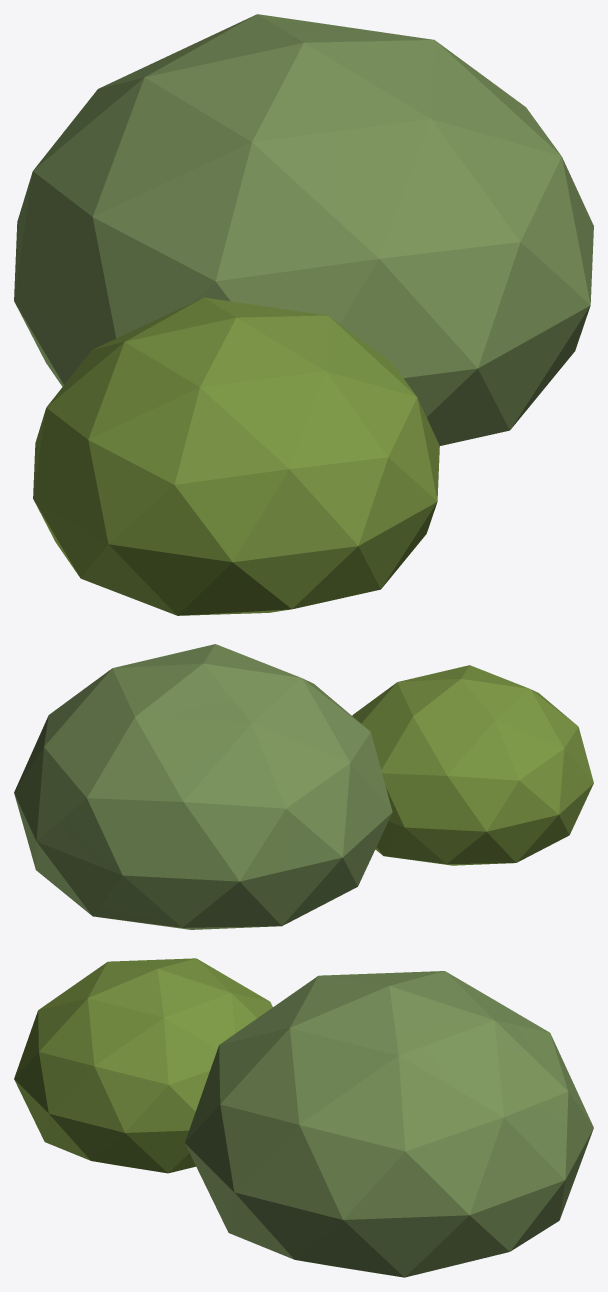
Rendered from bush_4.FBX.
The picture shows the model from 3 angles, top to bottom: view 1: azimuth 30°, elevation 25°; view 2: azimuth 150°, elevation 25°; view 3: azimuth 270°, elevation 25°; orthographic projection. The views are drawn at different scales.
Parts seen in each view (by area): view 1: Object015; view 2: Object015; view 3: Object015.
Part boxes in pixels (x1,y1,x2,y2): Object015: [14, 14, 593, 615]; Object015: [14, 644, 593, 929]; Object015: [14, 958, 593, 1277].
Size of the model in its own units: 6.1 by 3.2 by 6.72.
Materials: 1 (1 with a texture image).
